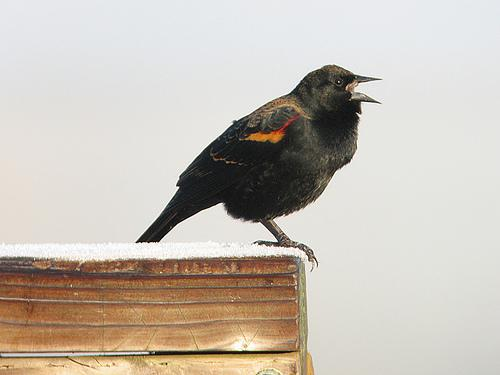010.Red_winged_Blackbird: (136, 65, 382, 274)
